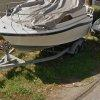Boat: (0, 1, 98, 53)
